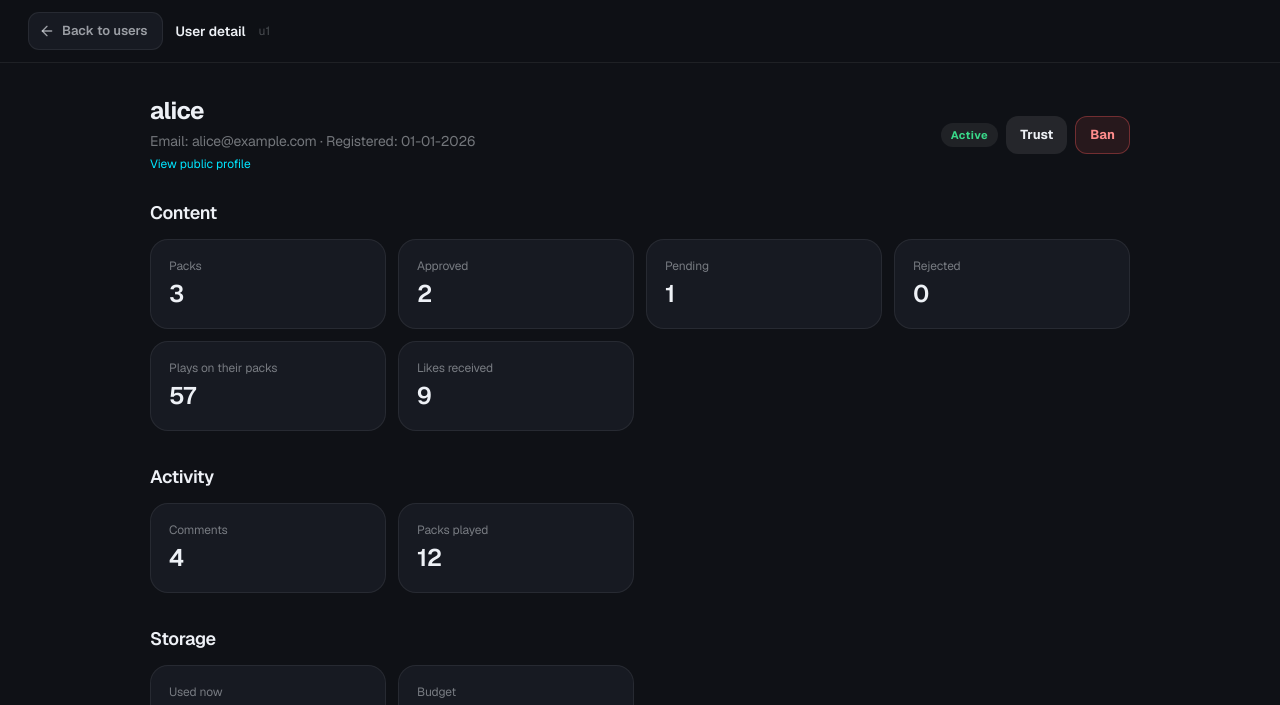
Test: AdminUserDetailScreen › moderation actions › opens the inline ban form on Ban, and Cancel closes it again
This screenshot has width=1280, height=705.
Click the button "Ban". click: click(1103, 135)
box: [1075,116,1130,154]
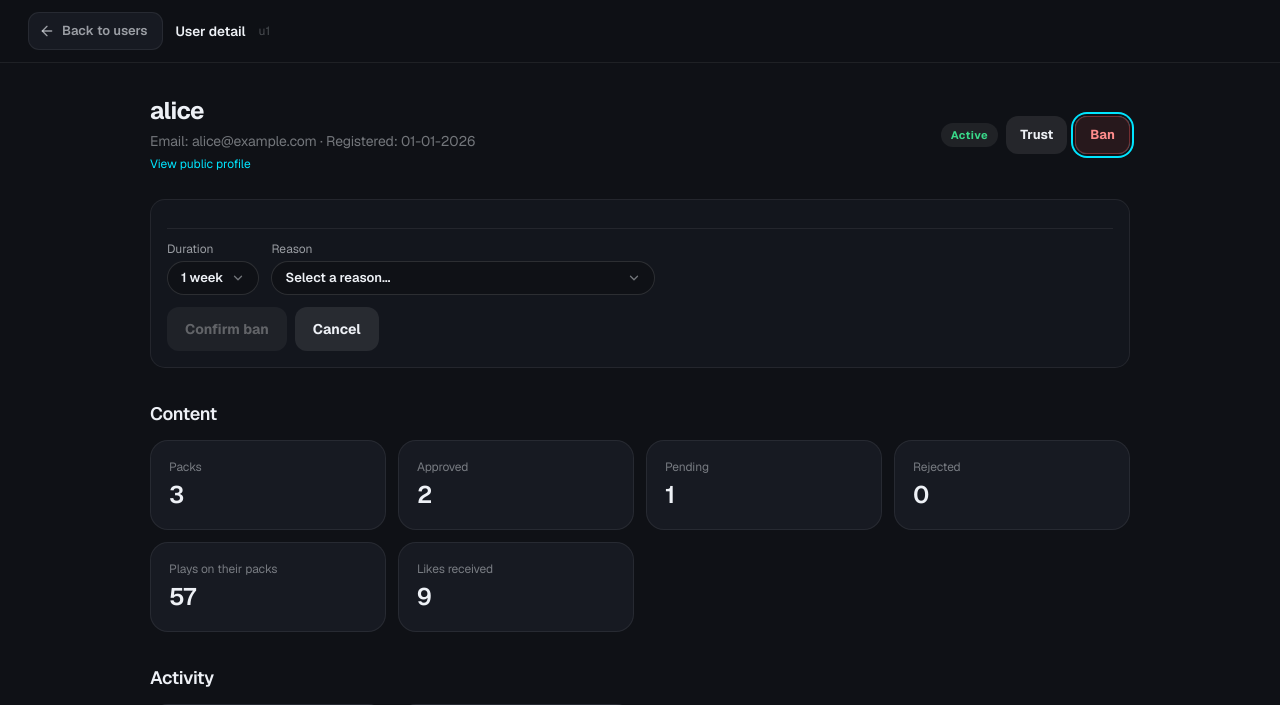
Check: the dropdown named "Duration" is shown, box [167,261,259,295]
Check: the dropdown labelled "reason" is shown, box [271,261,655,295]
Click the button "Cancel". click: click(337, 329)
box: [295,307,379,351]
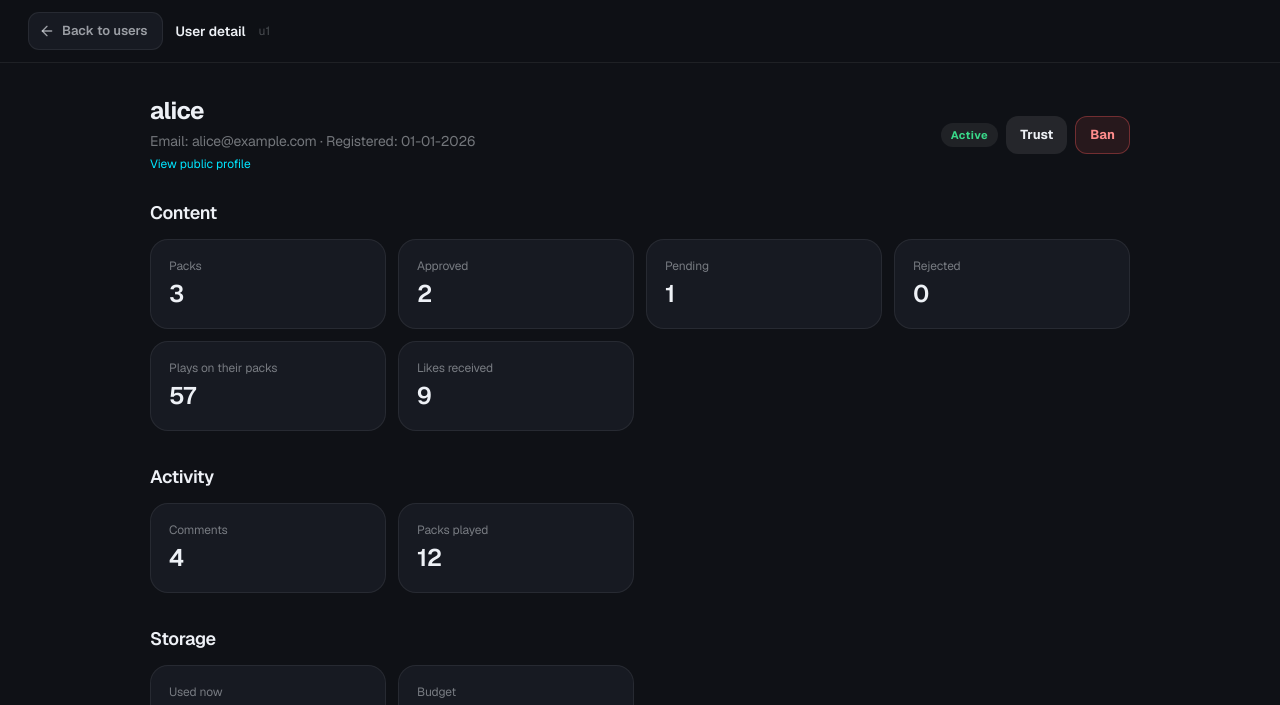
Check: the label labelled "Duration" is gone
